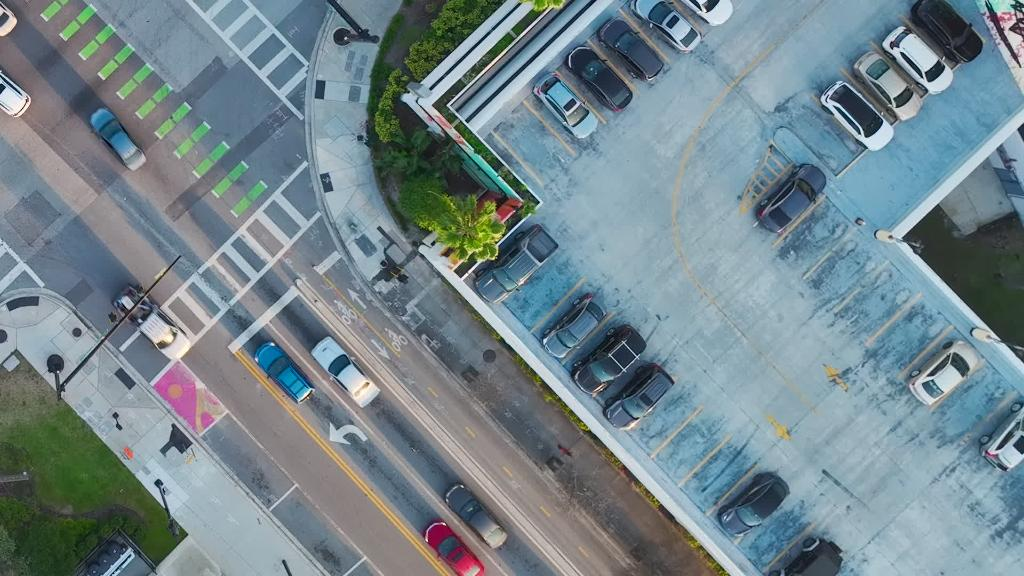cars: (474, 224, 560, 304), (114, 285, 190, 360), (570, 325, 648, 395), (820, 80, 894, 152), (756, 163, 828, 233), (602, 362, 676, 430), (310, 337, 380, 408), (853, 51, 923, 121), (882, 26, 954, 94), (717, 471, 791, 537), (908, 339, 980, 405), (910, 0, 983, 62), (540, 292, 608, 358), (566, 45, 632, 111), (598, 16, 664, 82), (444, 482, 508, 548), (534, 72, 598, 138), (252, 341, 316, 405), (628, 0, 702, 53), (89, 106, 147, 171), (423, 518, 485, 576), (978, 402, 1024, 472), (768, 536, 844, 576), (0, 58, 31, 117), (660, 0, 733, 25), (0, 0, 17, 37)
